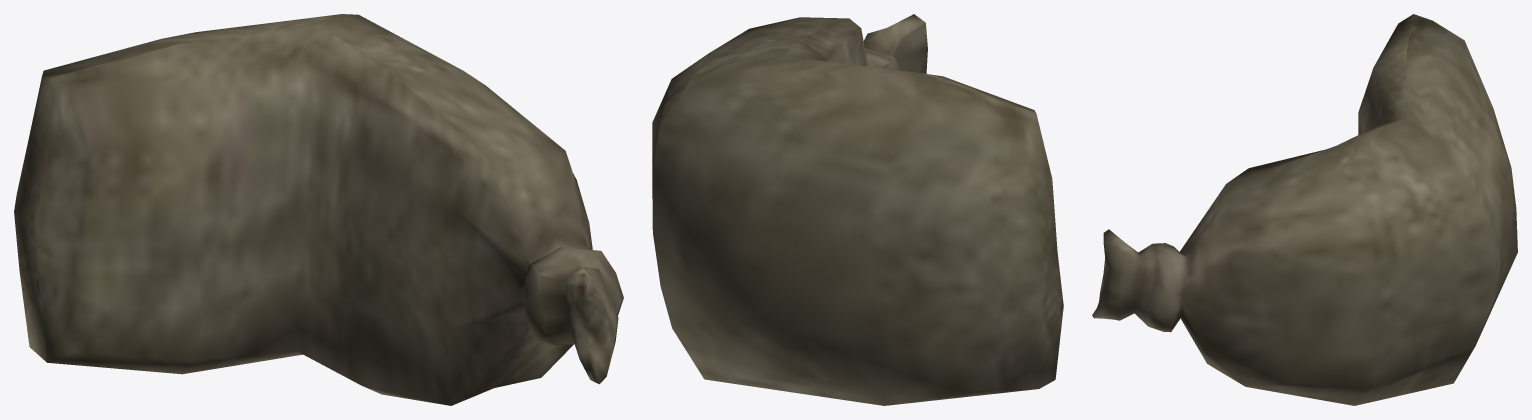
Rendered from military_sandbag_single_bent.glb.
3 renders of one model, left to right at view 1: azimuth 30°, elevation 25°; view 2: azimuth 150°, elevation 25°; view 3: azimuth 270°, elevation 25°, orthographic. The views are drawn at different scales.
Bounding box in the file's own units: 21.21 × 15.81 × 22.49.
Materials: 1 (1 with a texture image).
